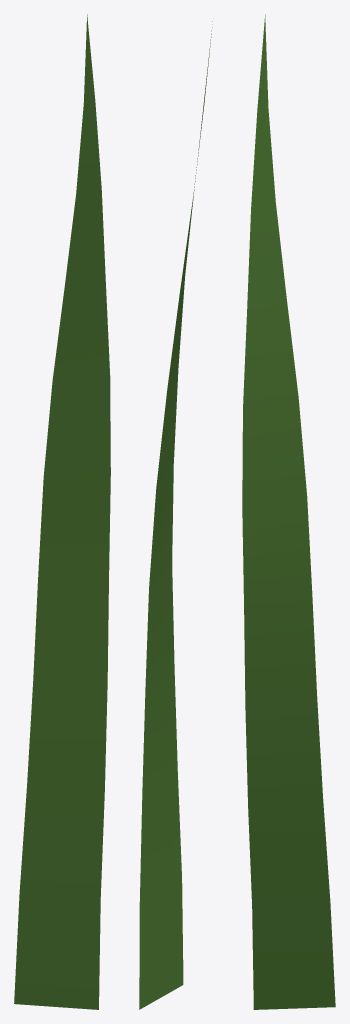
File: plant_swamp_kelp_giant_C_solo_G.fbx
3 renders of one model, left to right at view 1: azimuth 90°, elevation 25°; view 2: azimuth 150°, elevation 25°; view 3: azimuth 270°, elevation 25°, orthographic. The views are drawn at different scales.
Visible parts, largest first — view 1: plant_swamp_kelp_giant_C_solo_G; view 2: plant_swamp_kelp_giant_C_solo_G; view 3: plant_swamp_kelp_giant_C_solo_G.
Part boxes in pixels (left/top/right/bottom): plant_swamp_kelp_giant_C_solo_G: left=14, top=14, right=110, bottom=1009; plant_swamp_kelp_giant_C_solo_G: left=139, top=21, right=212, bottom=1009; plant_swamp_kelp_giant_C_solo_G: left=242, top=14, right=335, bottom=1009.
Bounding box in the file's own units: 13.95 × 252 × 21.78.
